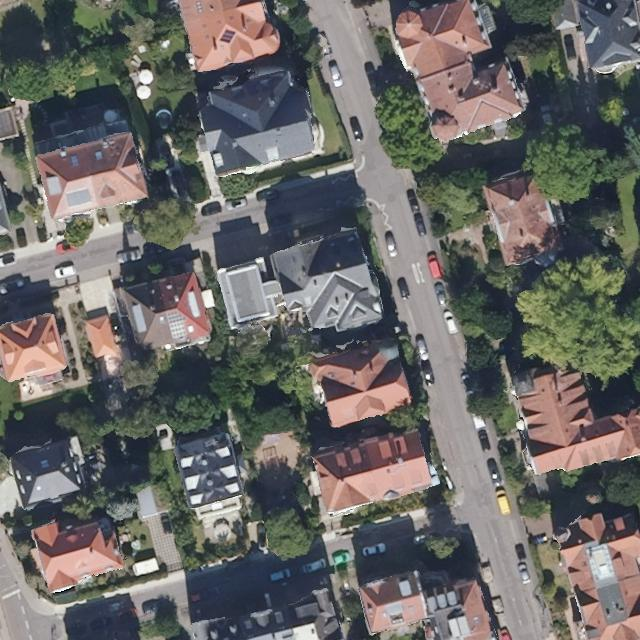PV: (166, 310, 188, 340), (218, 27, 237, 45)
